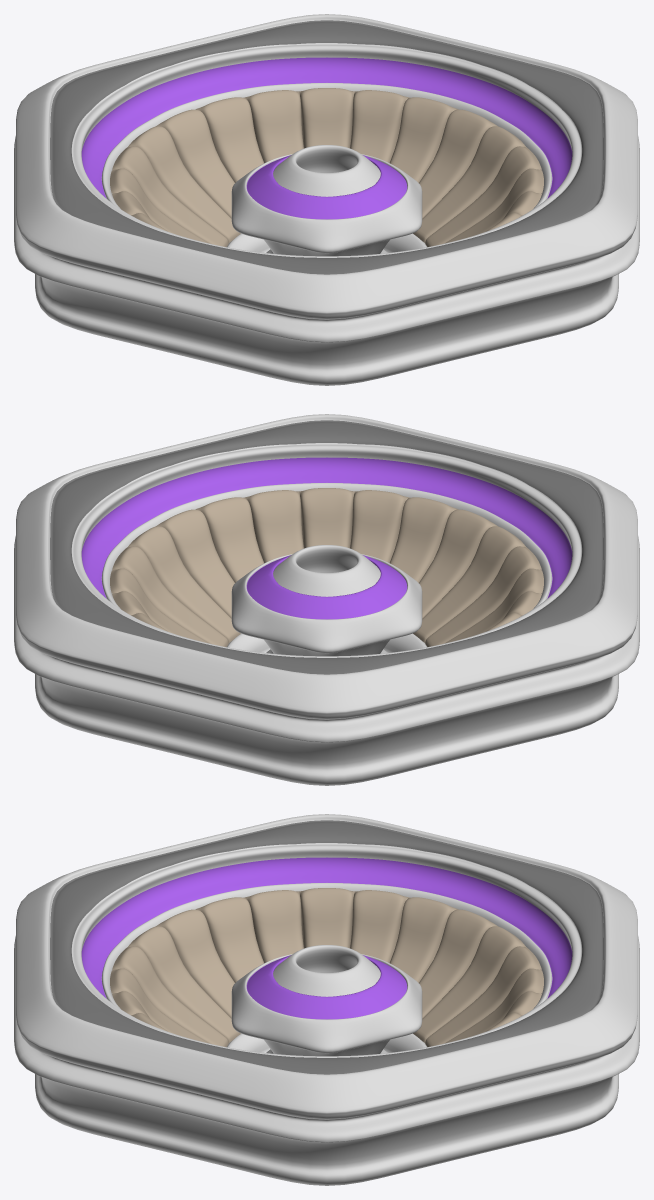
File: orbiter2.gltf
3 renders of one model, top to bottom at view 1: azimuth 30°, elevation 25°; view 2: azimuth 150°, elevation 25°; view 3: azimuth 270°, elevation 25°, orthographic.
Parts seen in each view (by area): view 1: body, flower; view 2: body, flower; view 3: body, flower.
Boxes of the visible parts, x1=… form: body: x1=14, y1=14, x2=639, y2=385; flower: x1=110, y1=88, x2=543, y2=246; body: x1=14, y1=414, x2=639, y2=785; flower: x1=110, y1=488, x2=543, y2=646; body: x1=14, y1=814, x2=639, y2=1185; flower: x1=110, y1=888, x2=543, y2=1046.
Size of the model in its own units: 2.77 by 0.5811 by 2.5.
